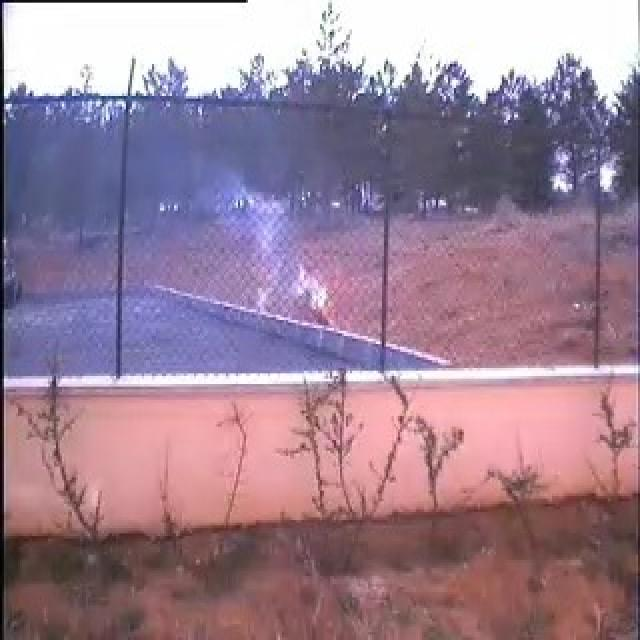smoke: (126, 173, 300, 345)
